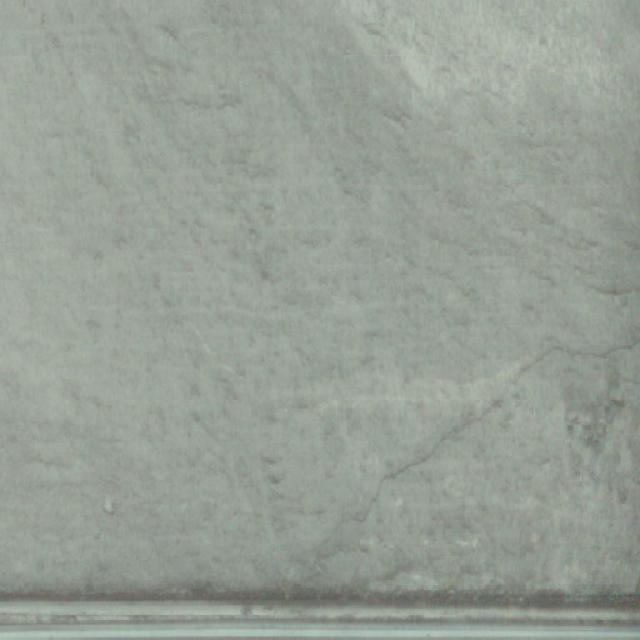Diagonal: (286, 296, 640, 640)
